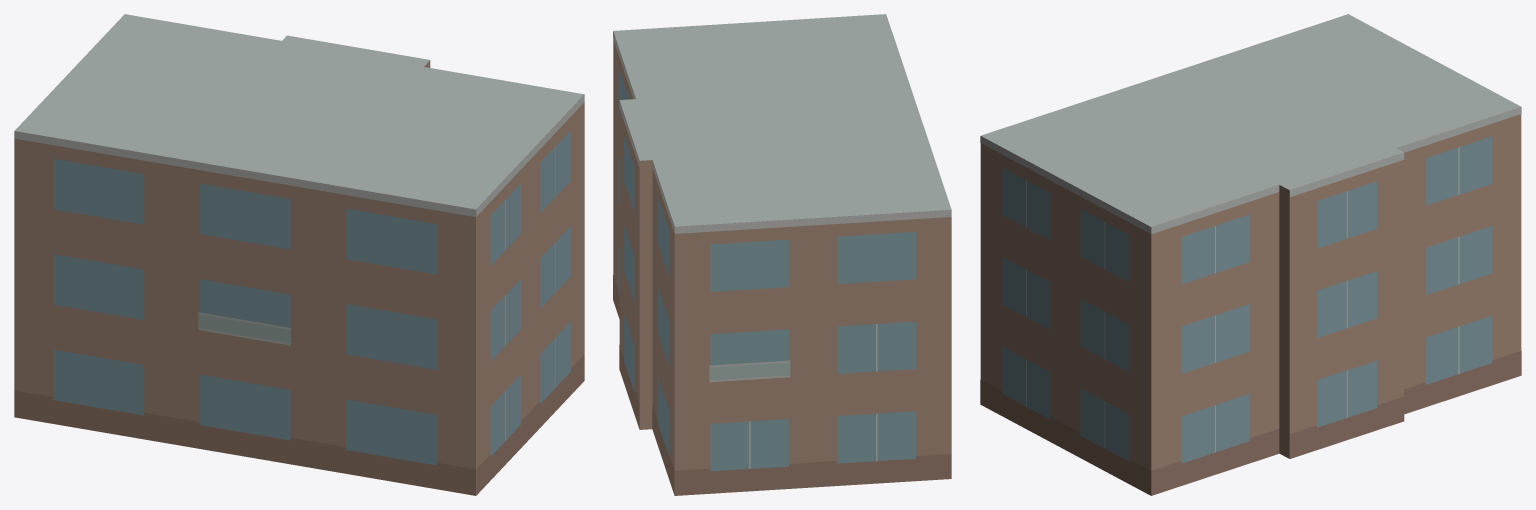
File: survey-upis-32805948.glb
The picture shows the model from 3 angles, left to right: view 1: azimuth 30°, elevation 25°; view 2: azimuth 150°, elevation 25°; view 3: azimuth 270°, elevation 25°; orthographic projection. The views are drawn at different scales.
Parts seen in each view (by area): view 1: survey-upis-32805948.tmp; view 2: survey-upis-32805948.tmp; view 3: survey-upis-32805948.tmp.
Part boxes in pixels (x1,y1,x2,y2): survey-upis-32805948.tmp: [14, 14, 584, 495]; survey-upis-32805948.tmp: [613, 14, 951, 495]; survey-upis-32805948.tmp: [980, 14, 1521, 495].
Bounding box in the file's own units: 15.56 × 9.15 × 16.7.
